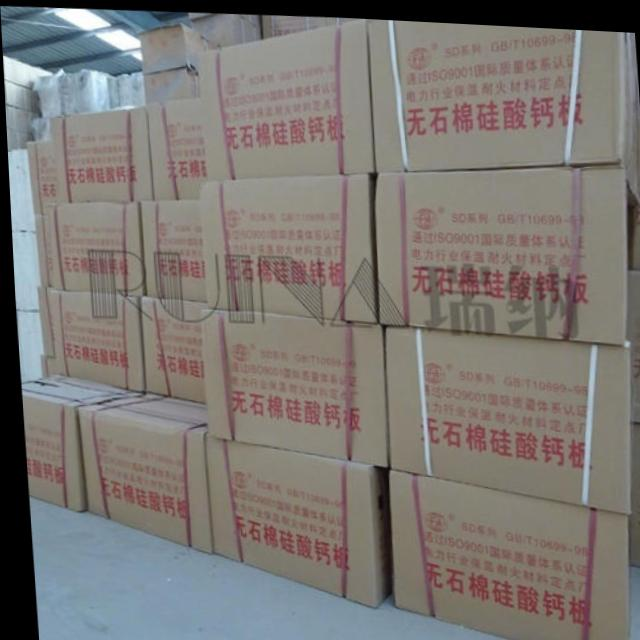box: (367, 15, 638, 199), (382, 320, 627, 509), (373, 157, 623, 338), (384, 464, 624, 640), (200, 433, 387, 604), (196, 305, 385, 462), (197, 15, 375, 177), (197, 170, 375, 319), (73, 395, 208, 551), (17, 376, 126, 510), (49, 104, 151, 202), (46, 288, 142, 390), (44, 198, 142, 294), (136, 295, 206, 401), (138, 197, 205, 300), (143, 96, 209, 198), (138, 20, 224, 72), (622, 415, 640, 562), (624, 261, 640, 416), (40, 372, 141, 396), (189, 11, 262, 44), (260, 12, 362, 35), (141, 64, 199, 103), (25, 139, 55, 214), (32, 214, 51, 287), (34, 285, 52, 356), (127, 391, 203, 406), (624, 198, 640, 262), (35, 352, 54, 378), (187, 10, 239, 19), (239, 11, 261, 23)
